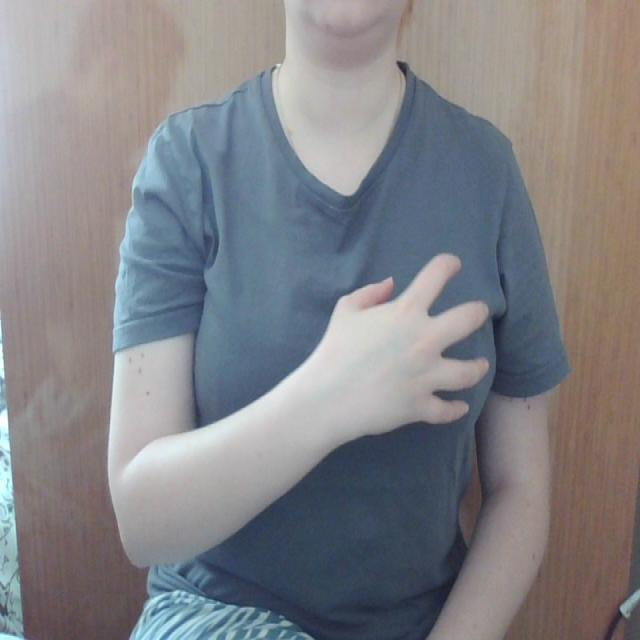Anne: (252, 244, 545, 436)
